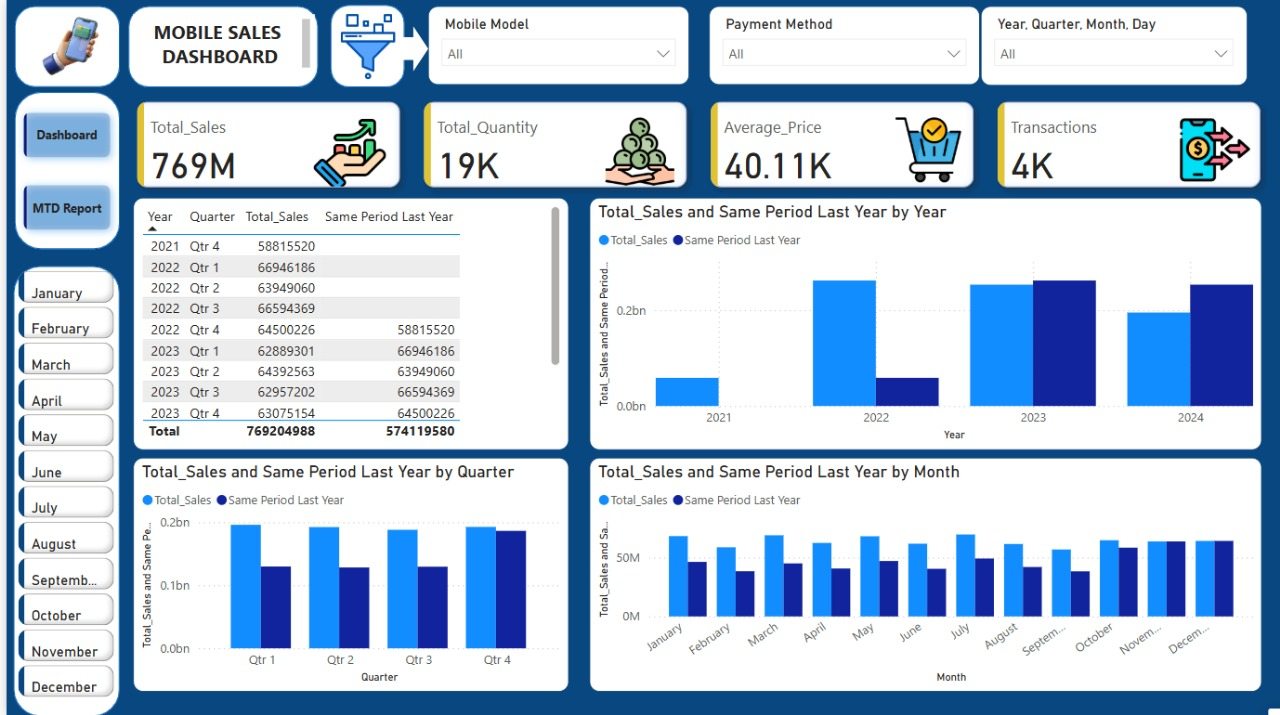

Layout of this report page (visuals, bound fields, positions):
{"tool":"powerbi","page":{"name":"Same Period Last Year","canvas":[1279,720],"ordinal":2},"visuals":[{"type":"shape","box":[8.1,7,105.7,81.3],"z":0},{"type":"shape","box":[8.1,93,105.7,158],"z":1000},{"type":"cardVisual","fields":{"Data":["Mobile_Sales.Total_Sales","Mobile_Sales.Total_Quantity","Mobile_Sales.Average_Price","Mobile_Sales.Transactions"]},"box":[114.8,86.4,1164.4,120.7],"z":2000},{"type":"image","box":[0,7,129,81.3],"z":3000},{"type":"slicer","fields":{"Values":["Mobile_Sales.Mobile Model"]},"box":[423.7,7.1,262.7,79.3],"z":4000},{"type":"slicer","fields":{"Values":["Mobile_Sales.Payment Method"]},"box":[705.3,7.1,272.2,79.3],"z":5000},{"type":"slicer","fields":{"Values":["Custom Calender.Date.Variation.Date Hierarchy.Year","Custom Calender.Date.Variation.Date Hierarchy.Quarter","Custom Calender.Date.Variation.Date Hierarchy.Month","Custom Calender.Date.Variation.Date Hierarchy.Day"]},"box":[977.8,6.7,267.8,80],"z":6000},{"type":"shape","box":[325.4,5.9,74.6,82.8],"z":7000},{"type":"shape","box":[121.9,7.1,190.5,81.7],"z":8000},{"type":"image","box":[267.4,9.5,191.7,76.9],"z":9000},{"type":"shape","box":[392.9,27.2,30.8,46.2],"z":10000},{"type":"textbox","box":[126.6,15.4,182.2,59.2],"z":11000},{"type":"shape","box":[6.7,267.8,106.7,452.2],"z":12000},{"type":"advancedSlicerVisual","fields":{"Values":["Custom Calender.Date.Variation.Date Hierarchy.Month"]},"box":[6.7,267.8,106.7,440],"z":13000},{"type":"tableEx","fields":{"Values":["Custom Calender.Date.Variation.Date Hierarchy.Year","Custom Calender.Date.Variation.Date Hierarchy.Quarter","Mobile_Sales.Total_Sales","Mobile_Sales.Same Period Last Year"]},"box":[126.7,198.9,437.8,253.3],"z":14000},{"type":"clusteredColumnChart","fields":{"Category":["Custom Calender.Date.Variation.Date Hierarchy.Year","Custom Calender.Date.Variation.Date Hierarchy.Quarter"],"Y":["Mobile_Sales.Total_Sales","Mobile_Sales.Same Period Last Year"]},"box":[585.6,198.9,675.6,253.3],"z":15000},{"type":"clusteredColumnChart","fields":{"Category":["Custom Calender.Date.Variation.Date Hierarchy.Year","Custom Calender.Date.Variation.Date Hierarchy.Quarter"],"Y":["Mobile_Sales.Total_Sales","Mobile_Sales.Same Period Last Year"]},"box":[126.7,460,437.8,235.6],"z":16000},{"type":"clusteredColumnChart","fields":{"Category":["Custom Calender.Date.Variation.Date Hierarchy.Year","Custom Calender.Date.Variation.Date Hierarchy.Quarter","Custom Calender.Date.Variation.Date Hierarchy.Month","Custom Calender.Date.Variation.Date Hierarchy.Day"],"Y":["Mobile_Sales.Total_Sales","Mobile_Sales.Same Period Last Year"]},"box":[585.6,460,675.6,235.6],"z":17000},{"type":"pageNavigator","box":[7.8,104.4,105.6,136.7],"z":17001}]}

Visuals, with their boxes in screenshot pixels (x1, y1, x2, y2), scaled from the page's 1279x720 canvas onto the 1280x715 screenshot:
shape: box(8, 7, 114, 88)
shape: box(8, 92, 114, 249)
cardVisual - Mobile_Sales.Total_Sales x Mobile_Sales.Total_Quantity: box(115, 86, 1279, 206)
image: box(0, 7, 129, 88)
slicer - Mobile_Sales.Mobile Model: box(424, 7, 687, 86)
slicer - Mobile_Sales.Payment Method: box(706, 7, 978, 86)
slicer - Custom Calender.Date.Variation.Date Hierarchy.Year x Custom Calender.Date.Variation.Date Hierarchy.Quarter: box(979, 7, 1247, 86)
shape: box(326, 6, 400, 88)
shape: box(122, 7, 313, 88)
image: box(268, 9, 459, 86)
shape: box(393, 27, 424, 73)
textbox: box(127, 15, 309, 74)
shape: box(7, 266, 113, 714)
advancedSlicerVisual - Custom Calender.Date.Variation.Date Hierarchy.Month: box(7, 266, 113, 703)
tableEx - Custom Calender.Date.Variation.Date Hierarchy.Year x Custom Calender.Date.Variation.Date Hierarchy.Quarter: box(127, 198, 565, 449)
clusteredColumnChart - Custom Calender.Date.Variation.Date Hierarchy.Year x Custom Calender.Date.Variation.Date Hierarchy.Quarter: box(586, 198, 1262, 449)
clusteredColumnChart - Custom Calender.Date.Variation.Date Hierarchy.Year x Custom Calender.Date.Variation.Date Hierarchy.Quarter: box(127, 457, 565, 691)
clusteredColumnChart - Custom Calender.Date.Variation.Date Hierarchy.Year x Custom Calender.Date.Variation.Date Hierarchy.Quarter: box(586, 457, 1262, 691)
pageNavigator: box(8, 104, 113, 239)
